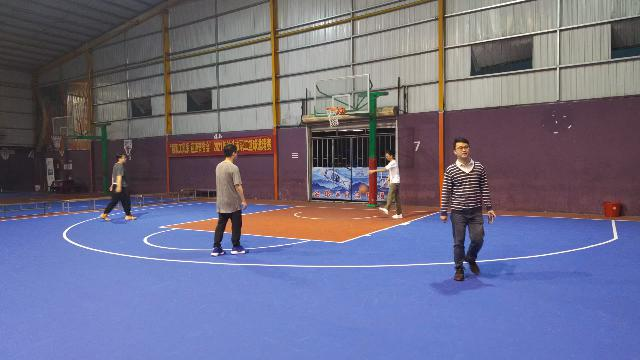ball: (358, 184, 368, 194)
basket: (324, 106, 344, 126), (50, 134, 62, 146)
